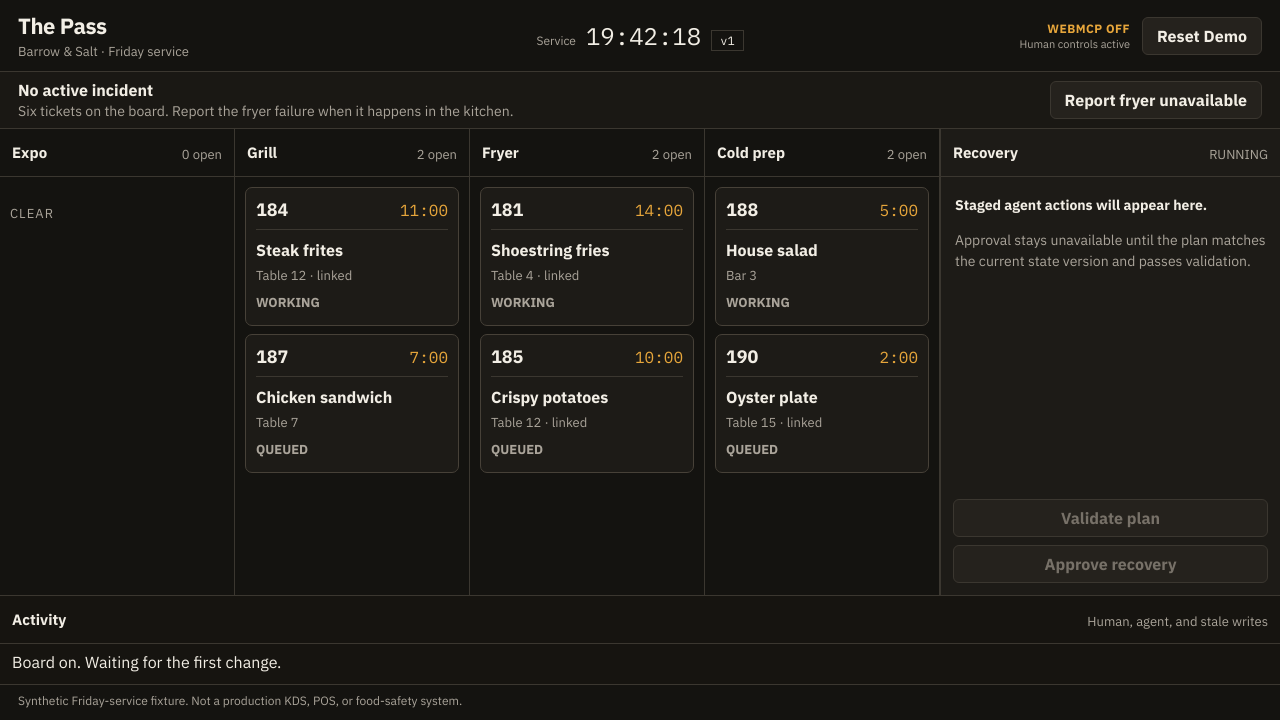
Test: kitchen board › lets a human report the fryer incident and lock Table 12
Click the button "Report fryer unavailable" at (1156,100), box [1050, 81, 1262, 119]
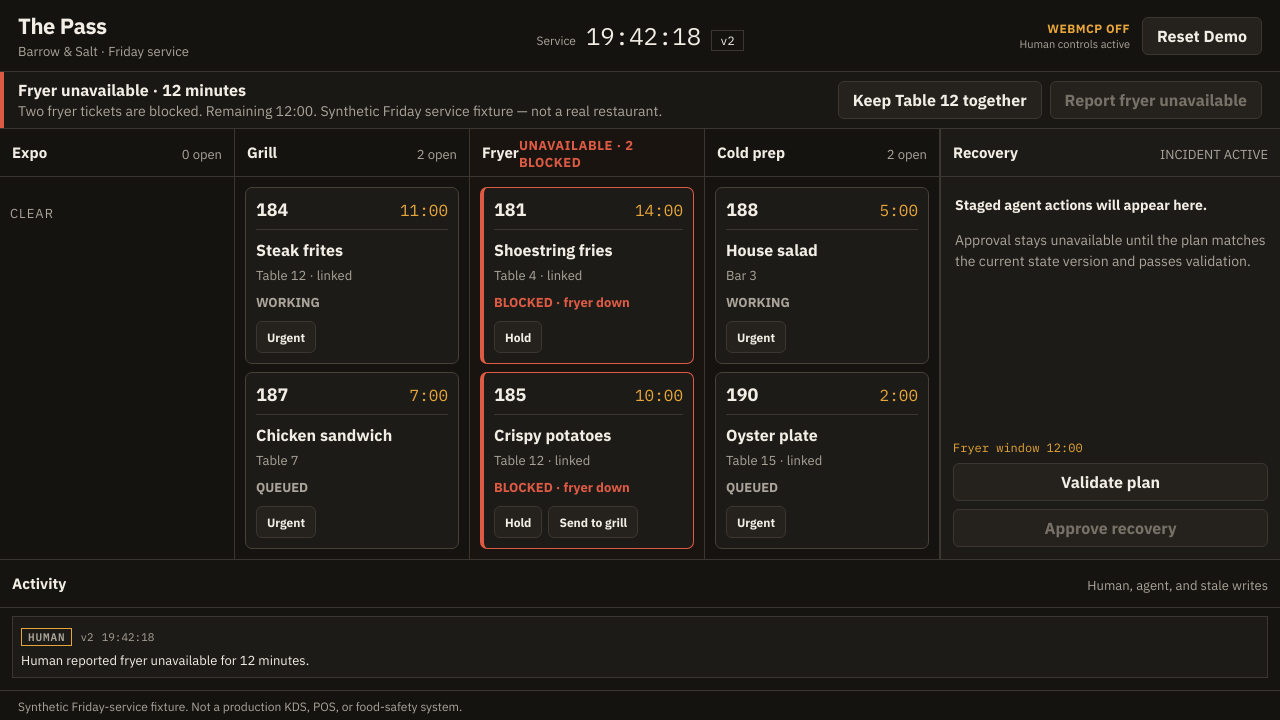
Check: the text "Fryer unavailable · 12 minutes" is shown, box [18, 80, 246, 100]
Check: the text "BLOCKED · fryer down" below "Table 4" is shown, box [494, 294, 630, 311]
Click the button "Keep Table 12 together" at (940,100), box [838, 81, 1042, 119]
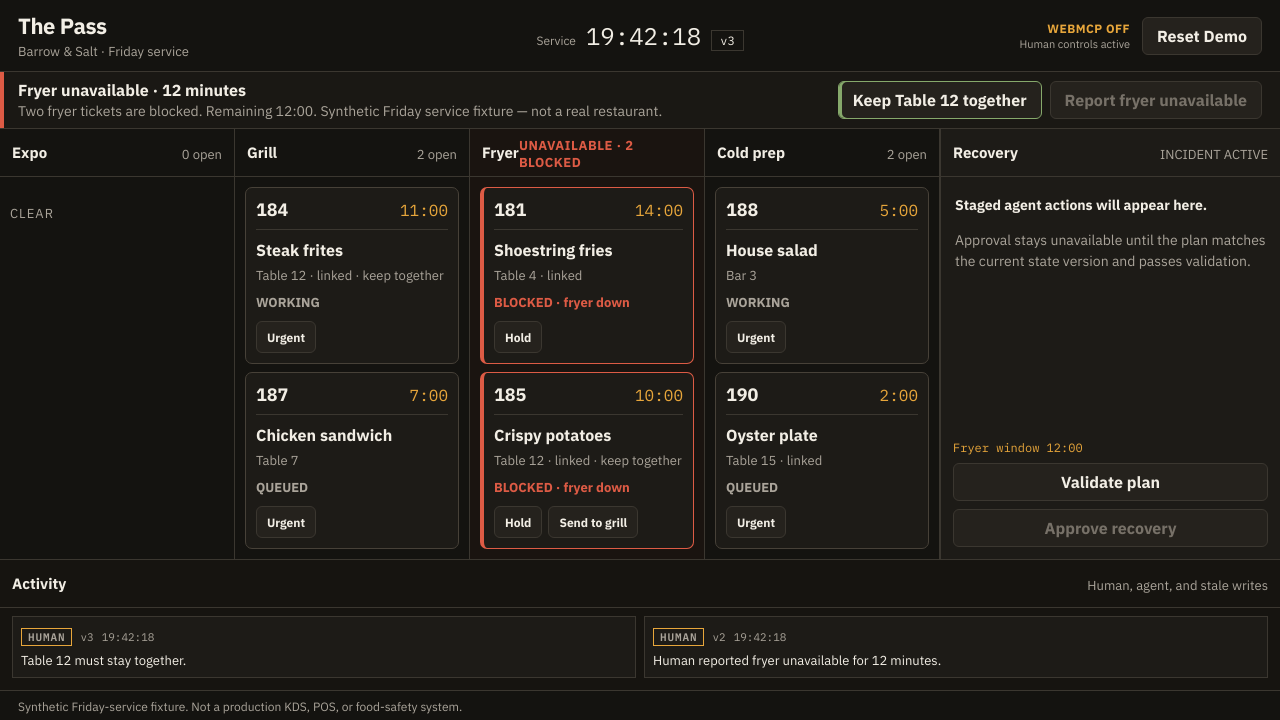
Check: the text "Table 12 must stay together." is shown, box [21, 652, 186, 669]
